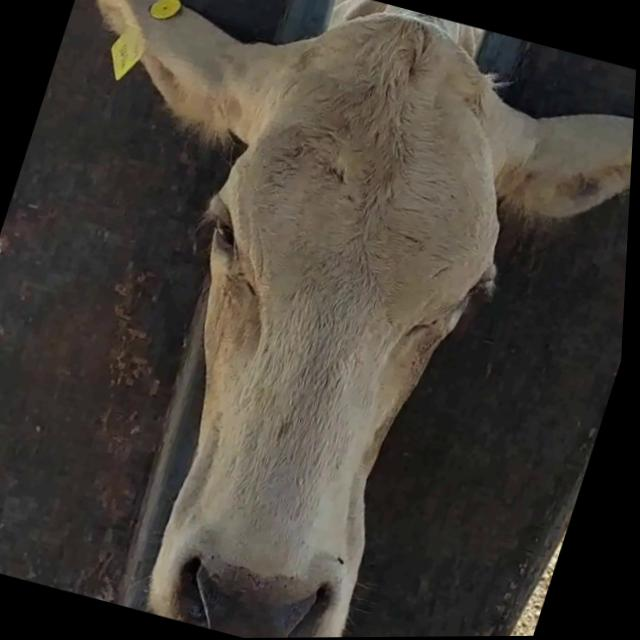cowFace: (82, 0, 562, 639)
